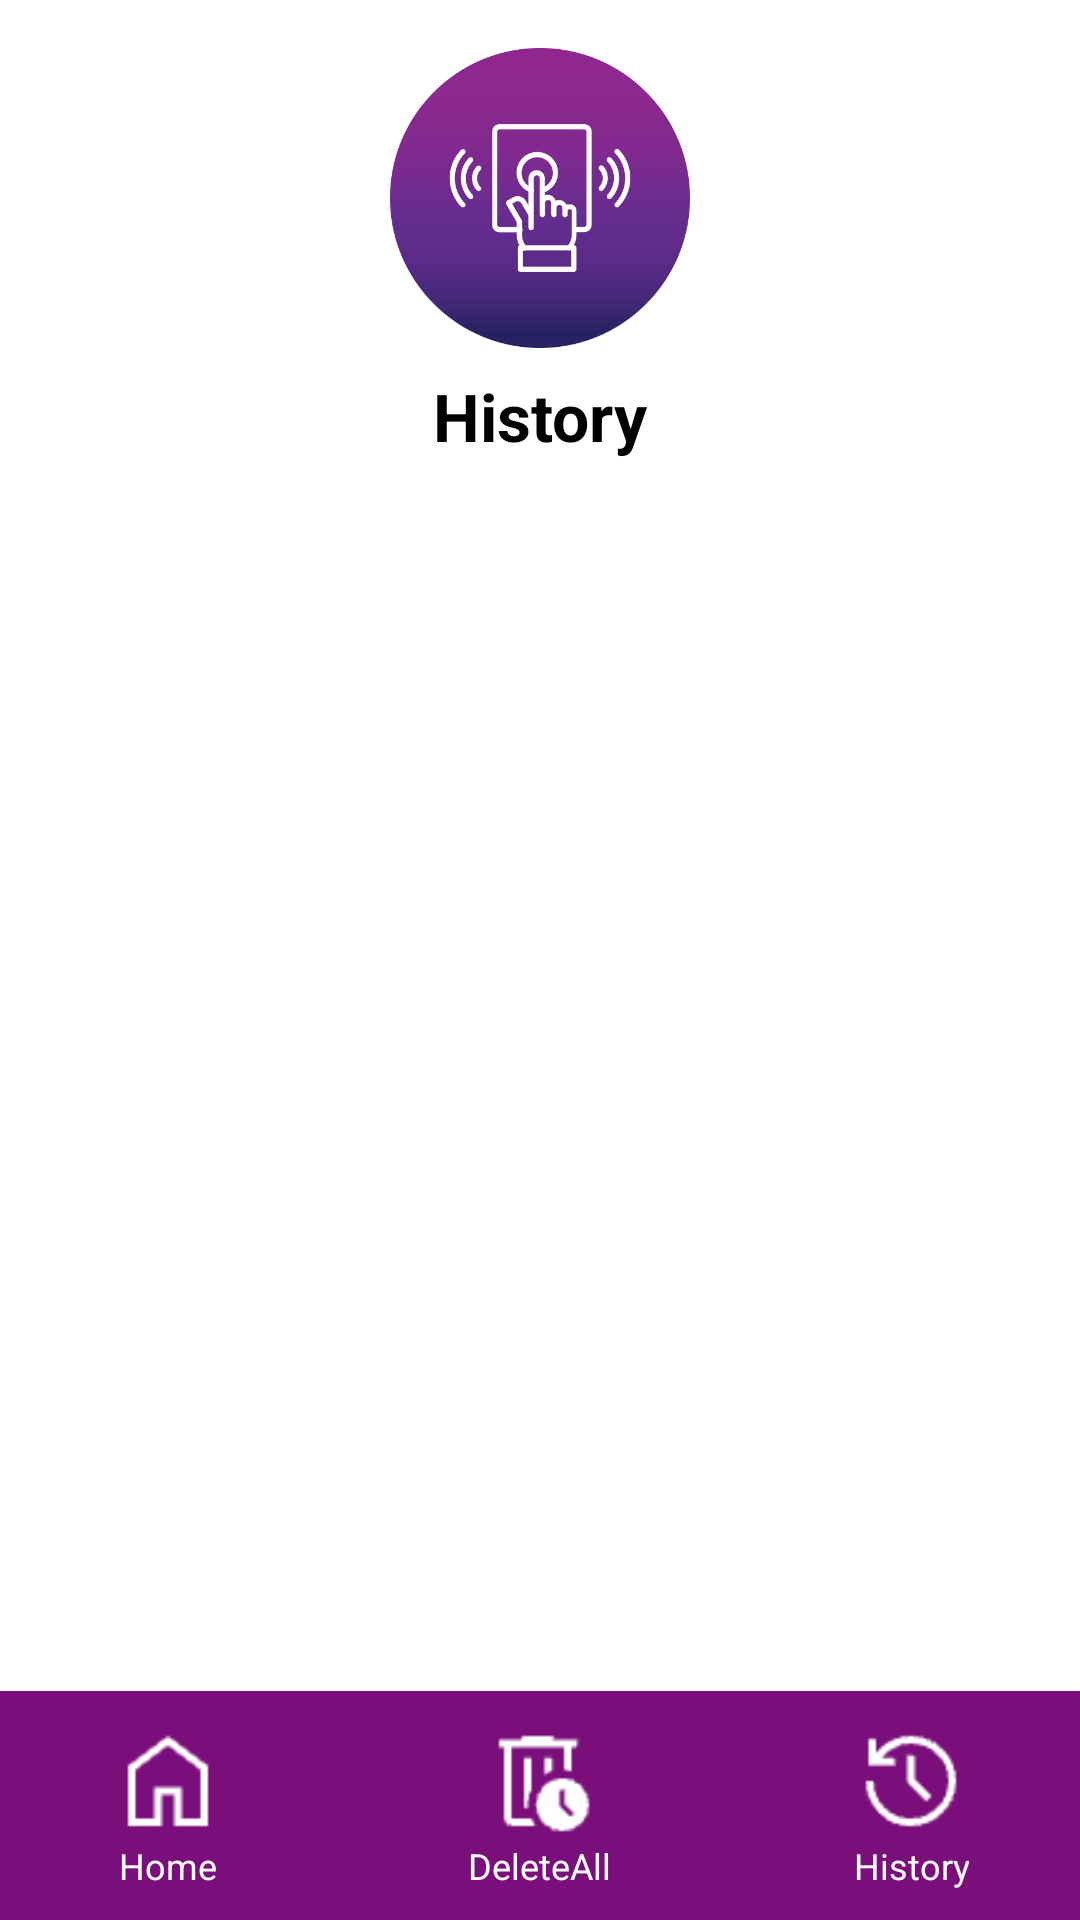

Locate icon controls on the screen. Image size 1080px x 1920px, boxes as region(x1, y1, x2, y2).
auto delete: region(498, 1735, 590, 1832)
